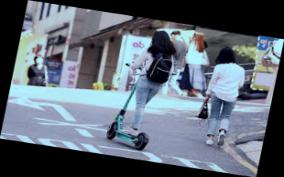nonhelmet: (101, 25, 181, 154)
